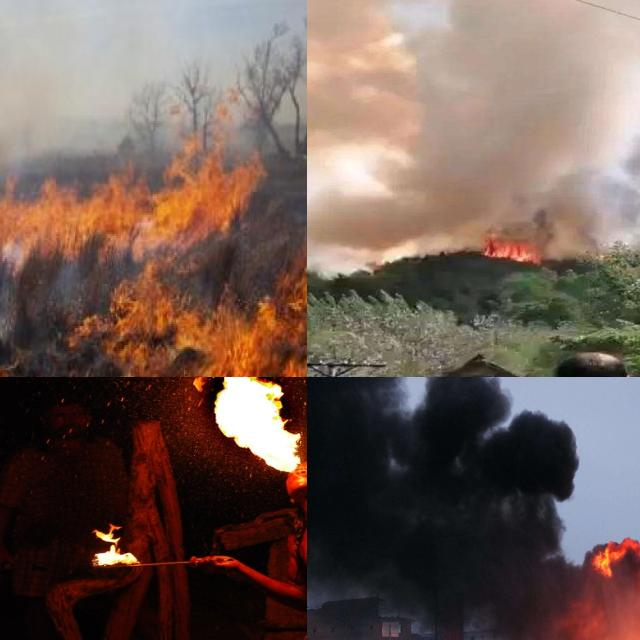fire: (0, 122, 307, 377), (82, 522, 144, 569), (480, 237, 555, 270)
smoke: (308, 377, 640, 640), (307, 0, 626, 235), (0, 0, 307, 157)
